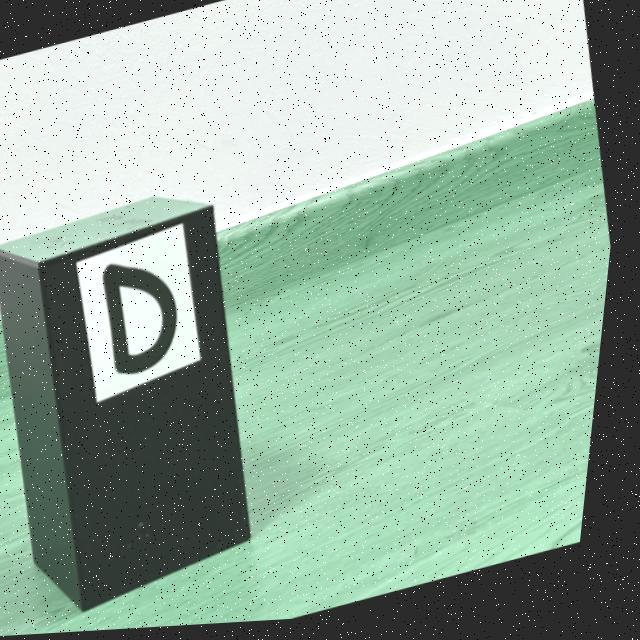D: (109, 265, 184, 376)
